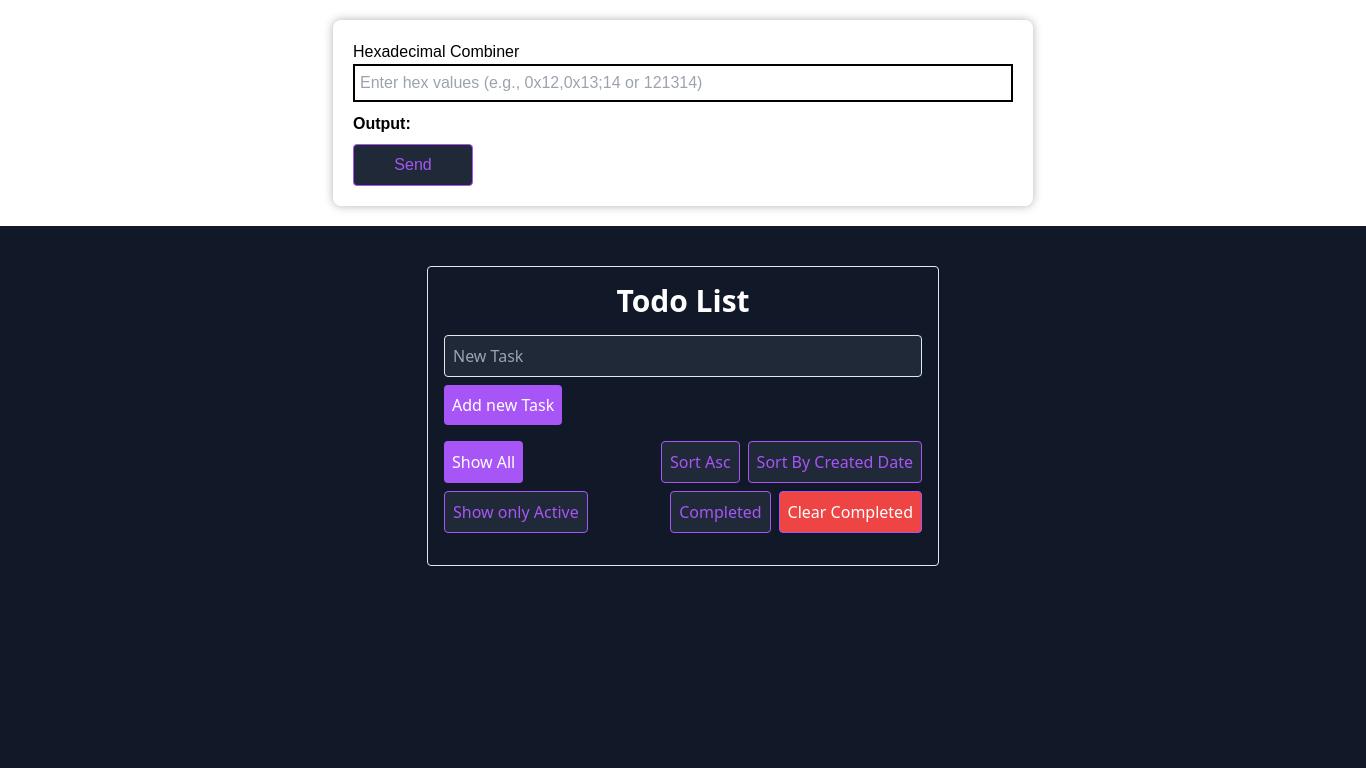
Test: HexCombiner Component › should show error for invalid input: 0x12, 0xG3 => Invalid input
Type "0x12, 0xG3" into the field with id "hexInput" at (683, 83), box [353,64,1013,102]
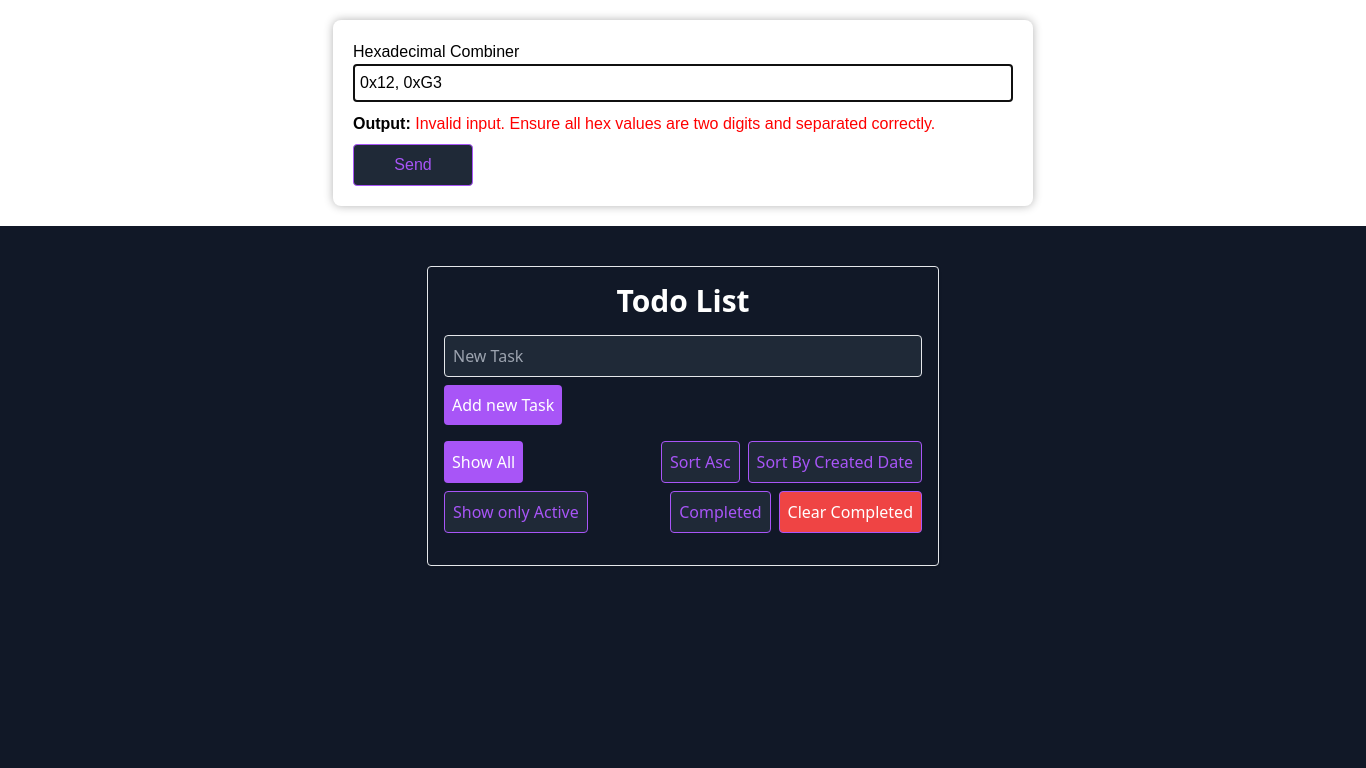
Expected: the element with id "resultContainer" shows "Invalid input. Ensure all hex values are two digits and separated correctly.", [353,112,1013,136]
